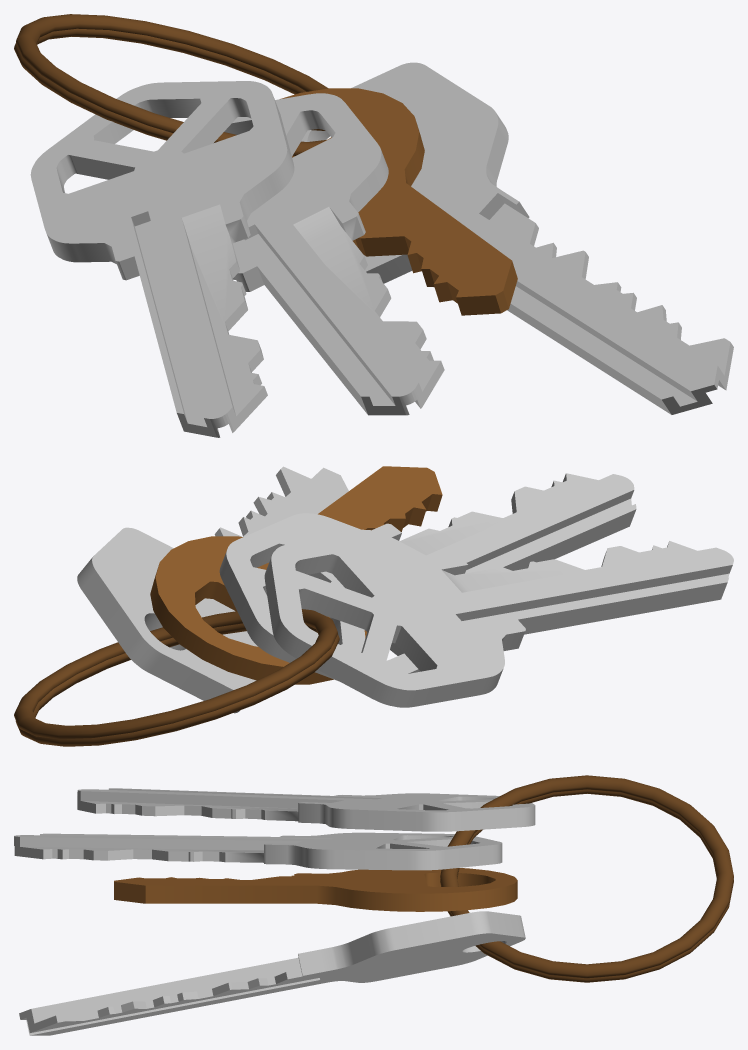
The model's file is Bunch_of_keys.dae.
3 renders of one model, top to bottom at view 1: azimuth 30°, elevation 25°; view 2: azimuth 150°, elevation 25°; view 3: azimuth 270°, elevation 25°, orthographic. The views are drawn at different scales.
Parts seen in each view (by area): view 1: group_1 (×4), group_5, group_0 (×2), group_3, group_4; view 2: group_1 (×4), group_0 (×2), group_5, group_3 (×2), group_4; view 3: group_5, group_0, group_1, group_3 (×2), group_4.
Boxes of the visible parts, box(x1,y1,x2,y2) form: group_1 (×4): box(30, 81, 294, 437); group_5: box(301, 62, 733, 414); group_0 (×2): box(232, 93, 444, 415); group_3: box(280, 88, 517, 315); group_4: box(14, 14, 328, 157); group_1 (×4): box(264, 531, 733, 707); group_0 (×2): box(219, 473, 636, 681); group_5: box(77, 466, 348, 713); group_3 (×2): box(150, 466, 442, 684); group_4: box(14, 609, 339, 746); group_5: box(19, 911, 525, 1035); group_0: box(14, 832, 502, 870); group_1: box(77, 788, 535, 831); group_3 (×2): box(114, 868, 517, 911); group_4: box(440, 775, 733, 982).
Bounding box in the file's own units: 2 × 2.95 × 0.7122.
